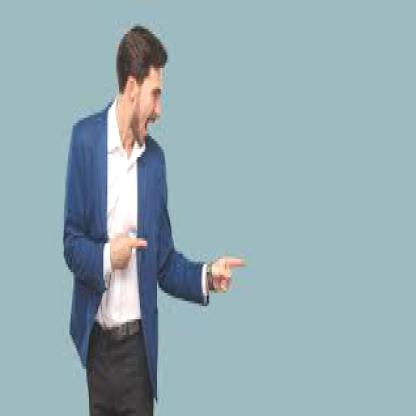Left: (103, 225, 152, 293), (205, 242, 248, 300)
